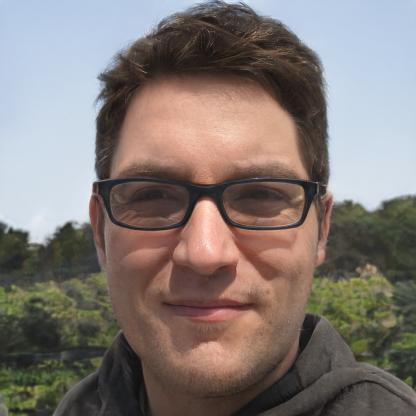eyeee: (118, 184, 184, 207), (231, 182, 289, 208)
mouthhz: (158, 294, 260, 326)
nosebb: (170, 194, 242, 279)
